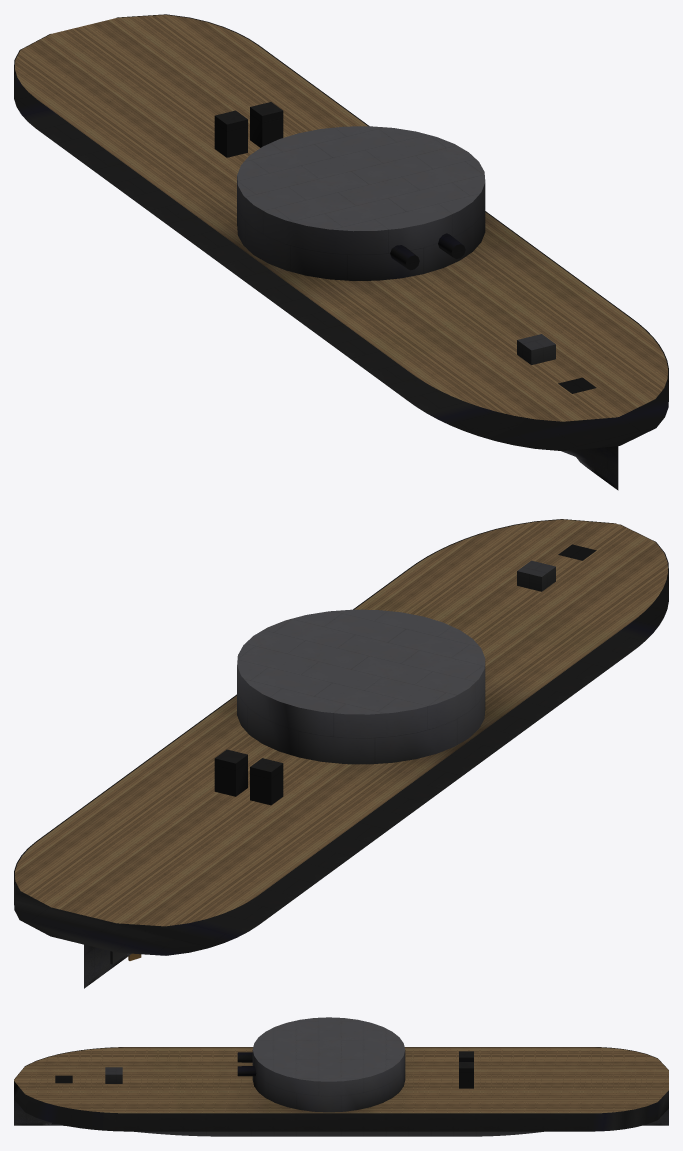
File: model_built.glb
The picture shows the model from 3 angles, top to bottom: view 1: azimuth 30°, elevation 25°; view 2: azimuth 150°, elevation 25°; view 3: azimuth 270°, elevation 25°; orthographic projection. The views are drawn at different scales.
Visible parts, largest first — view 1: main; view 2: main; view 3: main.
Boxes of the visible parts, x1=… form: main: x1=14, y1=14, x2=668, y2=490; main: x1=14, y1=519, x2=668, y2=988; main: x1=14, y1=1017, x2=668, y2=1136.
Bounding box in the file's own units: 12.6 × 7.1 × 52.4.
2 materials, 2 textured.
